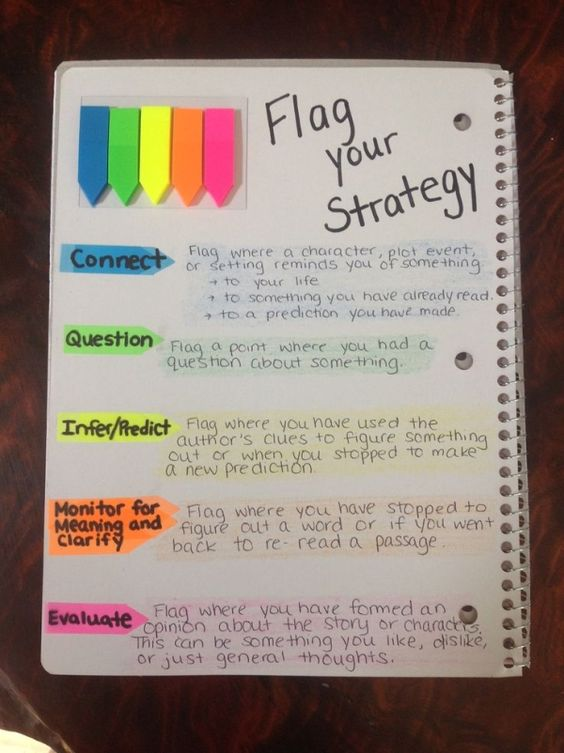page: (46, 70, 491, 667)
